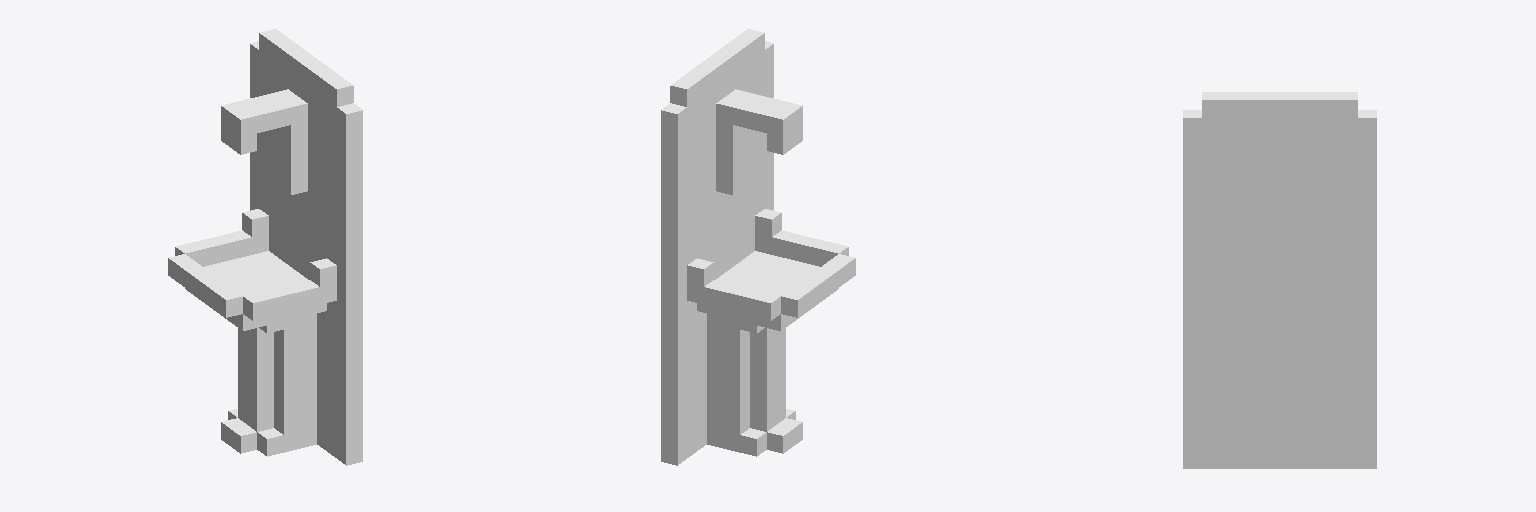
Rendered from vox-45-SmallFountain_Water.obj.
3 views of the same model, side by side, from view 1: azimuth 30°, elevation 25°; view 2: azimuth 150°, elevation 25°; view 3: azimuth 270°, elevation 25° (orthographic).
Visible parts, largest first — view 1: SmallFountain_Water; view 2: SmallFountain_Water; view 3: SmallFountain_Water.
Part boxes in pixels (bbox=[...]): SmallFountain_Water: bbox=[168, 29, 362, 465]; SmallFountain_Water: bbox=[661, 29, 855, 465]; SmallFountain_Water: bbox=[1183, 92, 1376, 468].
Size of the model in its own units: 0.7 by 2.1 by 1.